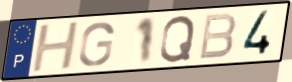1: (133, 15, 155, 67)
4: (240, 9, 273, 58)
B: (197, 11, 239, 61)
G: (76, 20, 116, 68)
H: (30, 20, 82, 75)
Q: (158, 14, 198, 64)
